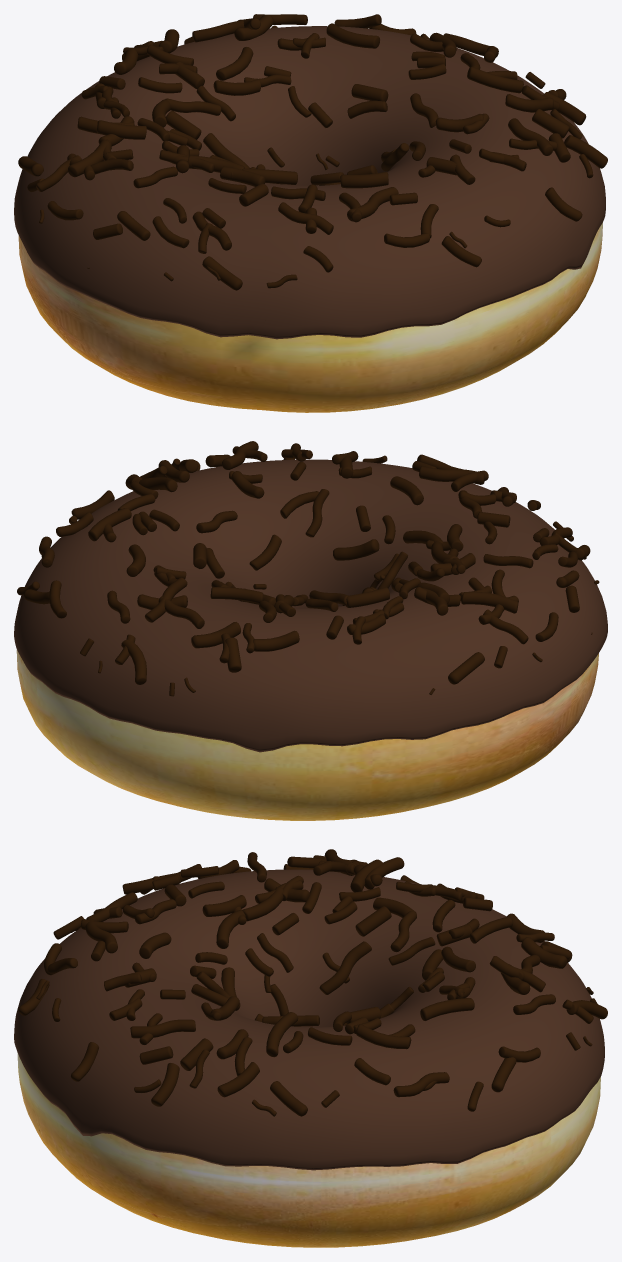
The model's file is dark chocolate vermicheli.glb.
3 renders of one model, top to bottom at view 1: azimuth 30°, elevation 25°; view 2: azimuth 150°, elevation 25°; view 3: azimuth 270°, elevation 25°, orthographic. The views are drawn at different scales.
Visible parts, largest first — view 1: dark, var chocolate, Torus; view 2: dark, Torus, var chocolate; view 3: dark, var chocolate, Torus.
Part boxes in pixels (x1,y1,x2,y2): dark: (14,26,605,339); var chocolate: (18,14,607,290); Torus: (18,222,602,412); dark: (14,459,607,752); Torus: (16,649,598,820); var chocolate: (17,441,599,696); dark: (14,869,604,1170); var chocolate: (18,849,607,1116); Torus: (17,1052,600,1247).
Bounding box in the file's own units: 0.1988 × 0.0811 × 0.198.
Materials: 3 (1 with a texture image).
